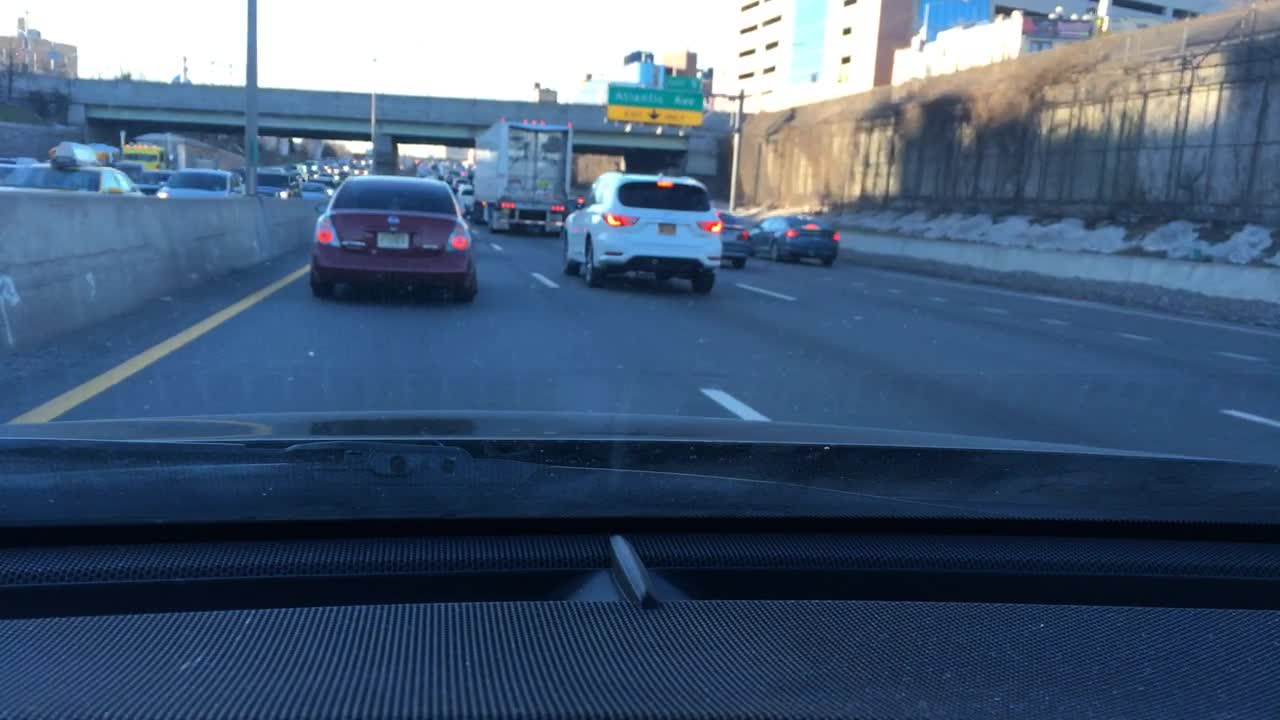car: (310, 172, 476, 310), (564, 168, 719, 296), (0, 139, 144, 196), (746, 213, 838, 264), (156, 164, 246, 199), (716, 204, 750, 267), (255, 161, 296, 199), (116, 155, 157, 191), (301, 181, 329, 208), (141, 167, 172, 188), (0, 155, 40, 168), (222, 160, 249, 179), (347, 154, 369, 175), (566, 193, 584, 213), (303, 157, 324, 174), (318, 169, 337, 187), (451, 177, 469, 193), (285, 160, 300, 179), (458, 183, 472, 200), (414, 163, 433, 175), (323, 156, 340, 168), (445, 170, 458, 184), (436, 164, 448, 179), (336, 164, 346, 177)
traffic sign: (605, 82, 704, 128), (660, 71, 702, 90)
truck: (469, 114, 574, 238), (121, 129, 244, 169)
